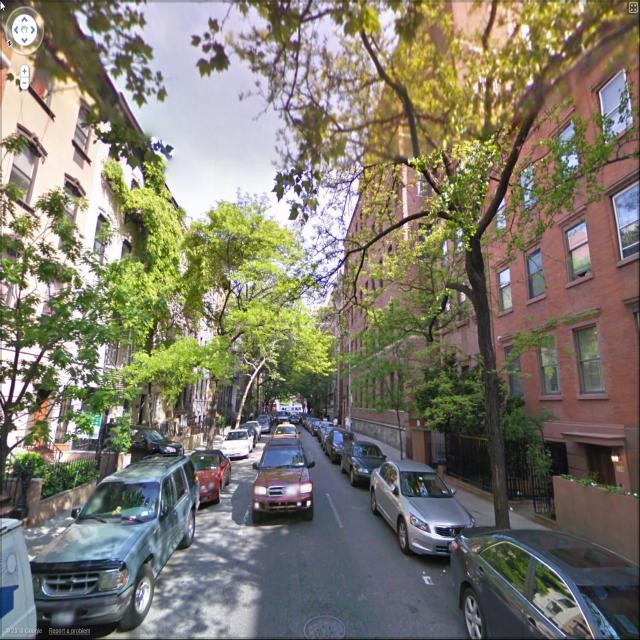b_2: (490, 24, 637, 525), (0, 21, 134, 457), (336, 91, 440, 439), (433, 37, 510, 446), (126, 190, 223, 462), (167, 260, 267, 442)
